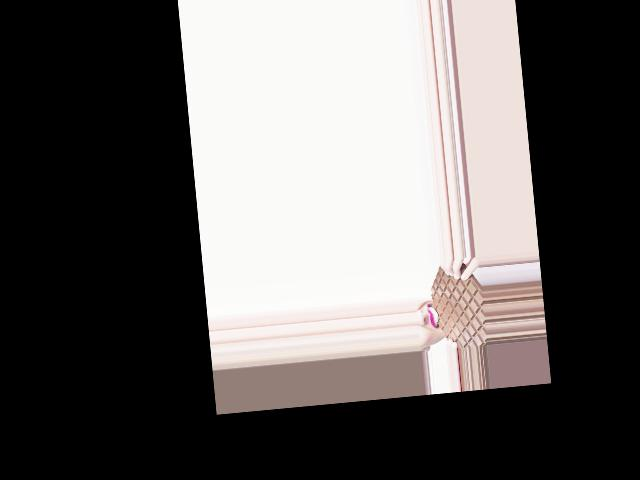chocolate: (425, 255, 487, 350)
